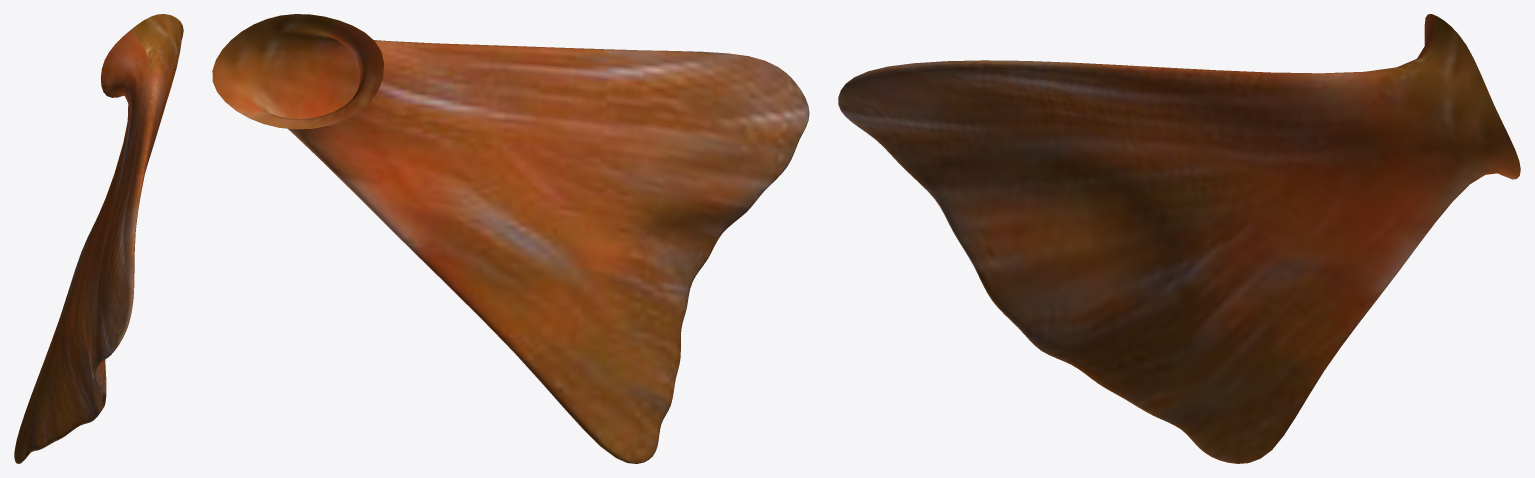
The model's file is aletaDerecha.obj.
The picture shows the model from 3 angles, left to right: view 1: azimuth 30°, elevation 25°; view 2: azimuth 150°, elevation 25°; view 3: azimuth 270°, elevation 25°; orthographic projection. The views are drawn at different scales.
Visible parts, largest first — view 1: aletaDerecha; view 2: aletaDerecha; view 3: aletaDerecha.
Part boxes in pixels (<box>): aletaDerecha: <box>14,14,183,463</box>; aletaDerecha: <box>212,14,809,463</box>; aletaDerecha: <box>838,14,1520,463</box>.
Bounding box in the file's own units: 1.62 × 2 × 2.07.
1 material, 1 textured.
